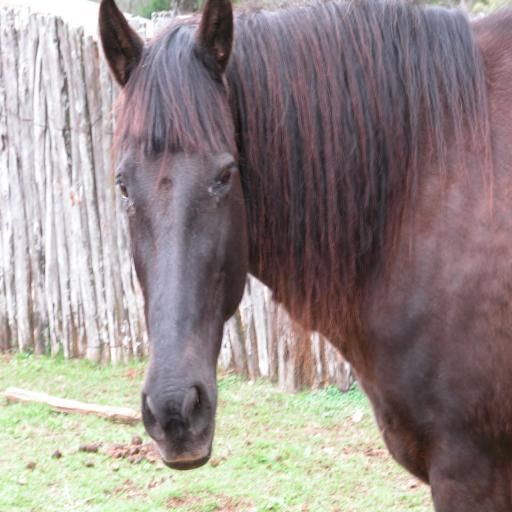horse: (104, 0, 512, 512)
